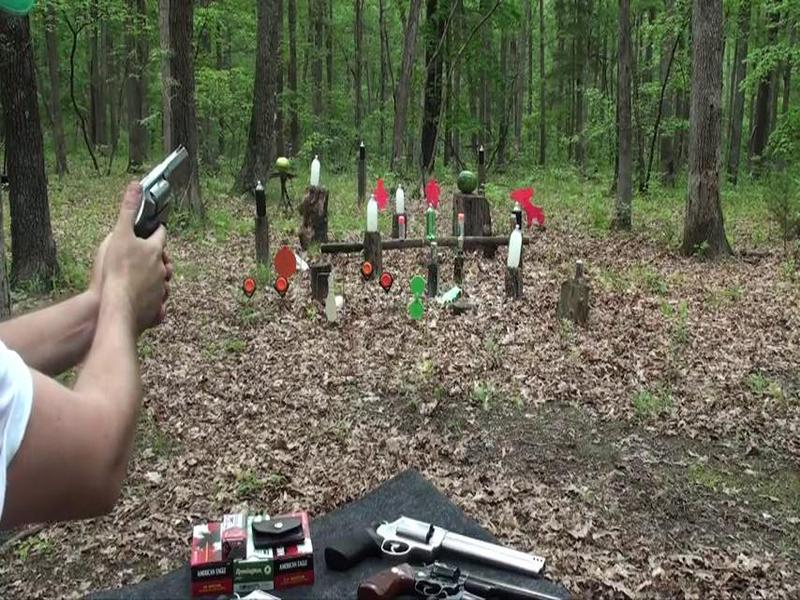Revolver: (101, 139, 197, 294)
